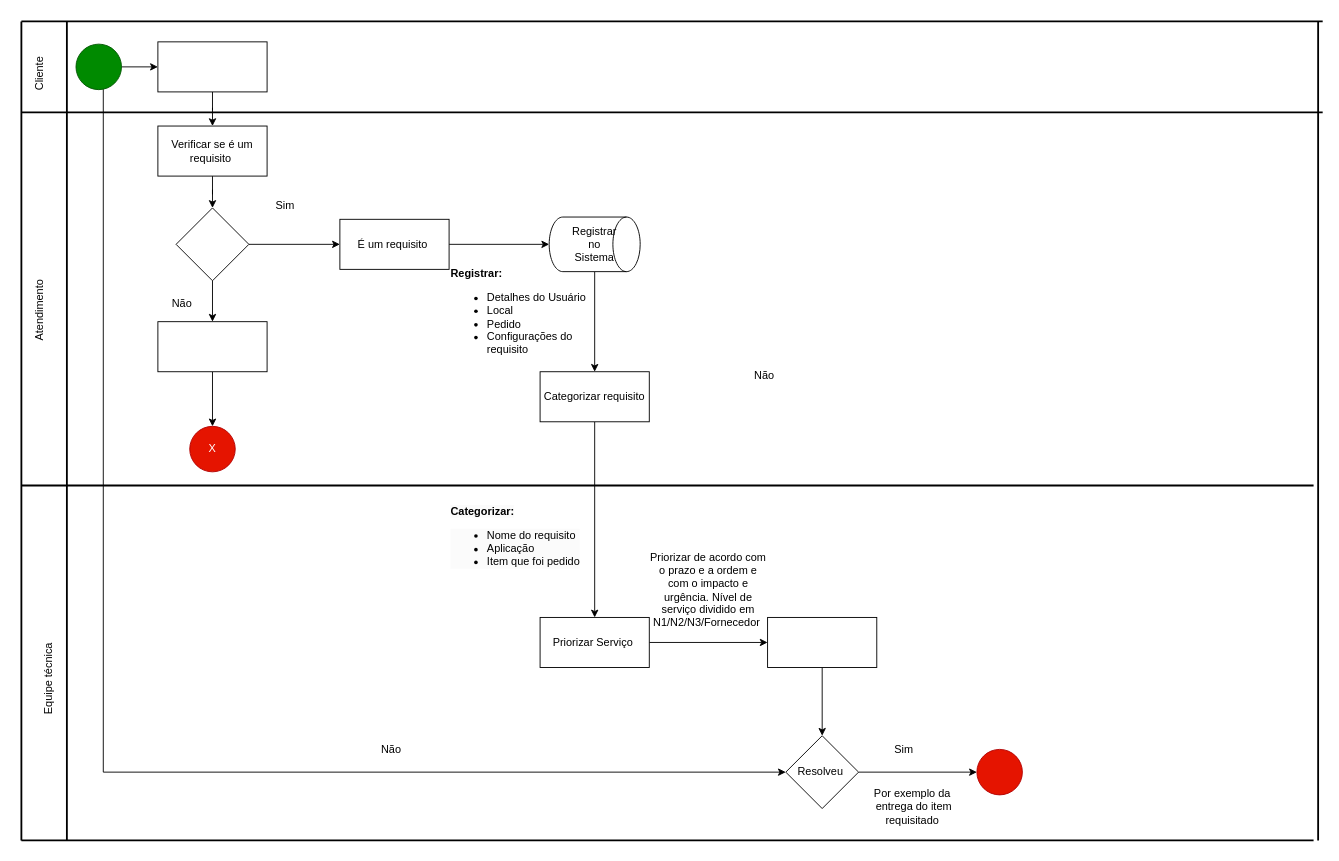
This 1339x861 diagram has some shape labels left out. Each missing label, with the centre of its shape:
"Iniciar Atendimento" belongs at point (212, 66).
"Redirecionar para outro atendimento" belongs at point (212, 346).
"Resolução" belongs at point (822, 642).
